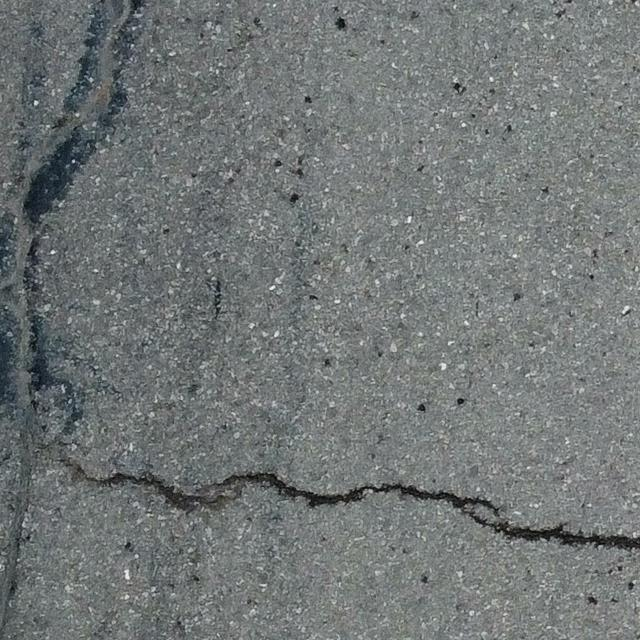TransverseCrack: (43, 441, 640, 550)
